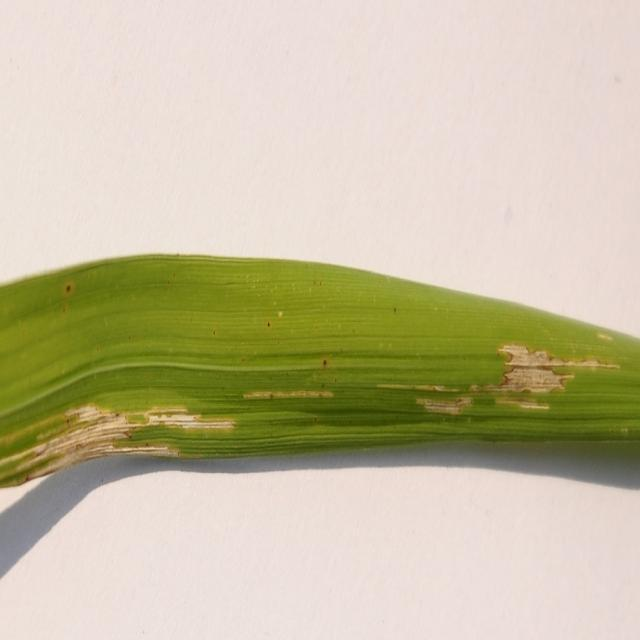bacterial_leaf_blight: (30, 404, 234, 476), (495, 345, 618, 392), (146, 411, 234, 428), (417, 397, 471, 414), (244, 390, 333, 398), (123, 445, 176, 454)
